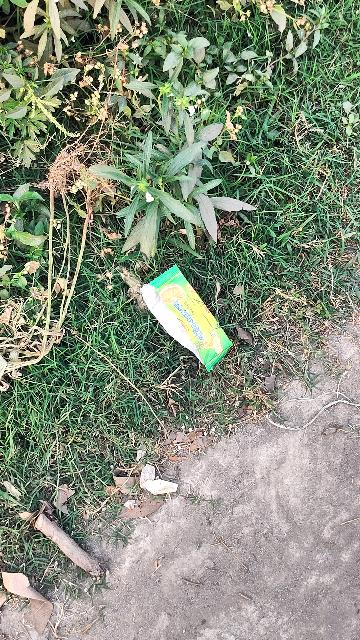packet: (141, 266, 235, 374)
